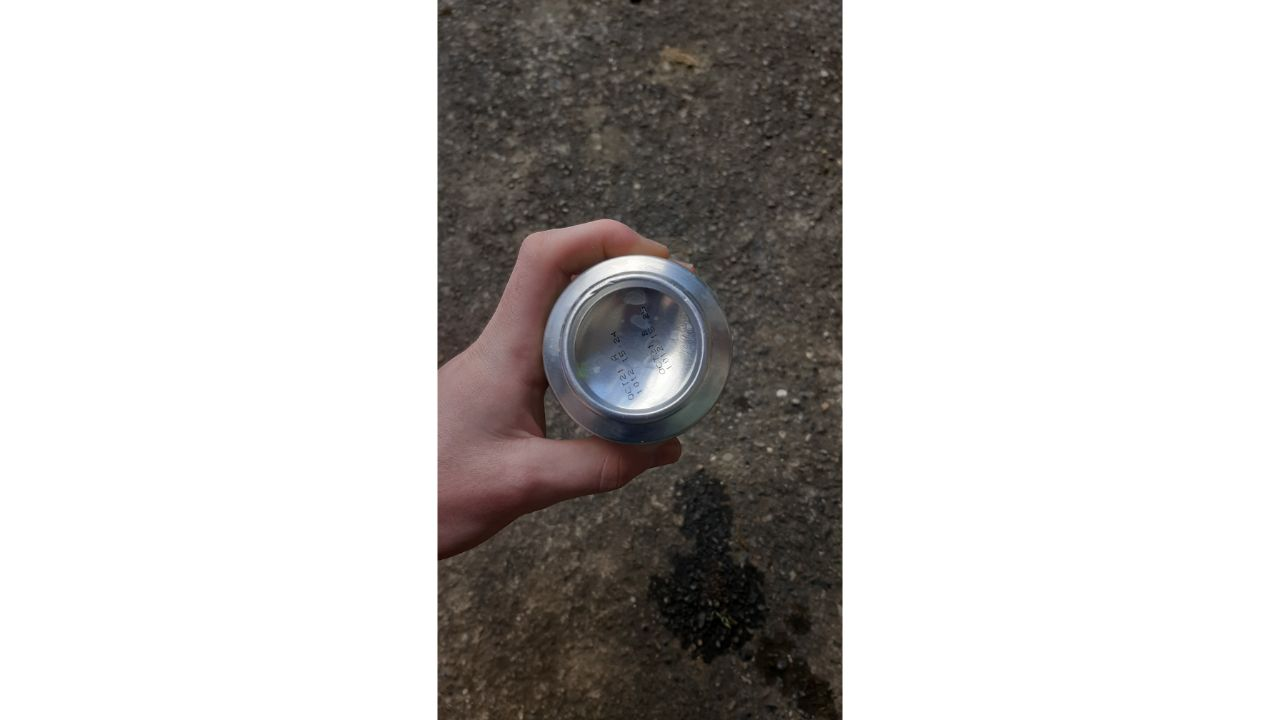Can: (532, 243, 739, 452)
